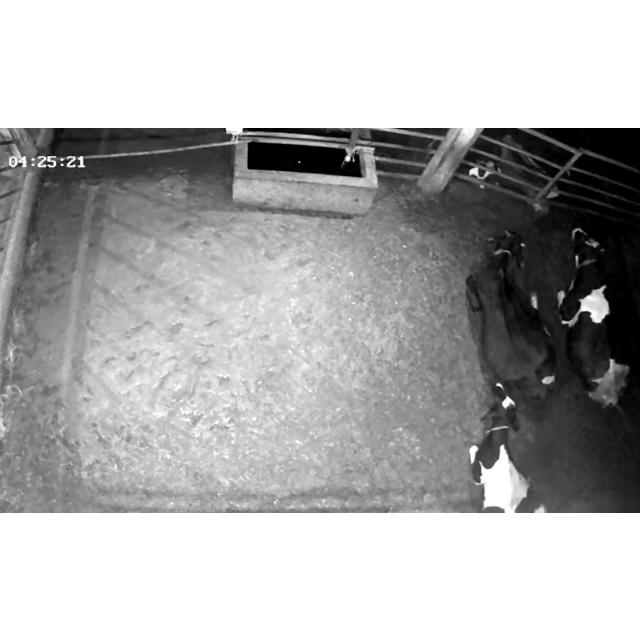lay: (458, 218, 562, 402), (556, 196, 640, 410), (452, 381, 550, 513)
